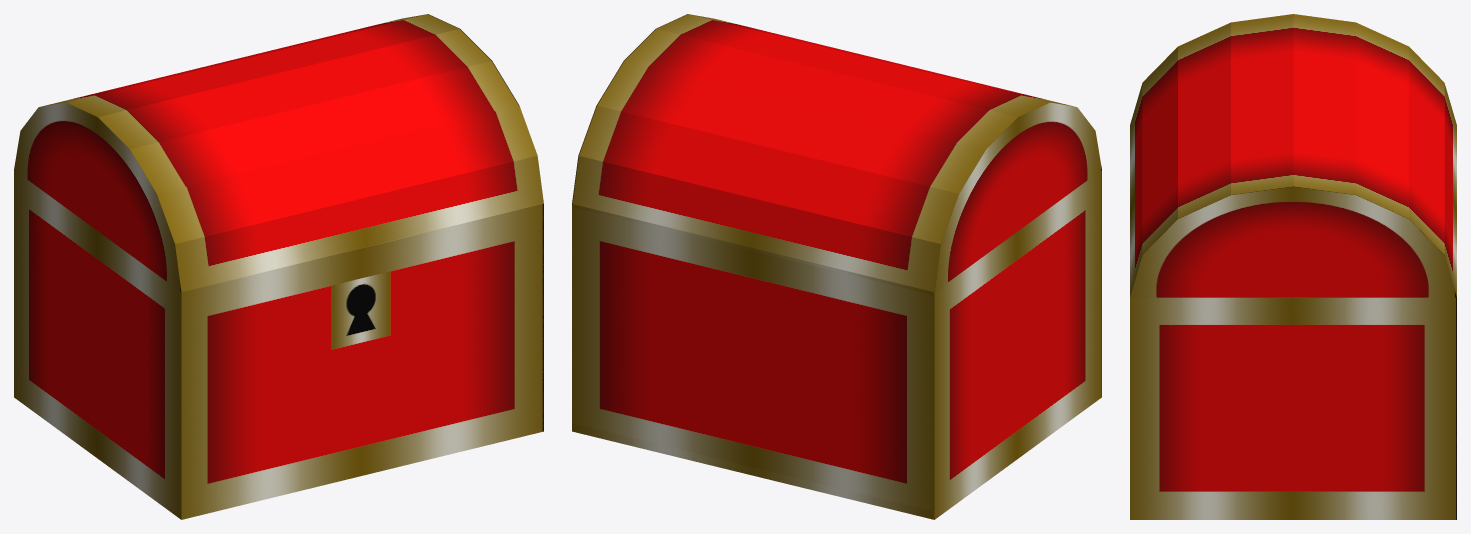
Rendered from treasure.fbx.
The picture shows the model from 3 angles, left to right: view 1: azimuth 30°, elevation 25°; view 2: azimuth 150°, elevation 25°; view 3: azimuth 270°, elevation 25°; orthographic projection. The views are drawn at different scales.
Parts seen in each view (by area): view 1: treasure_bottom, treasure_top; view 2: treasure_bottom, treasure_top; view 3: treasure_top, treasure_bottom.
Part boxes in pixels (<box>): treasure_bottom: <box>14,170,543,519</box>; treasure_top: <box>14,14,543,292</box>; treasure_bottom: <box>572,170,1101,519</box>; treasure_top: <box>572,14,1101,292</box>; treasure_top: <box>1130,14,1456,297</box>; treasure_bottom: <box>1130,297,1456,519</box>.
Bounding box in the file's own units: 100 × 90 × 80.
